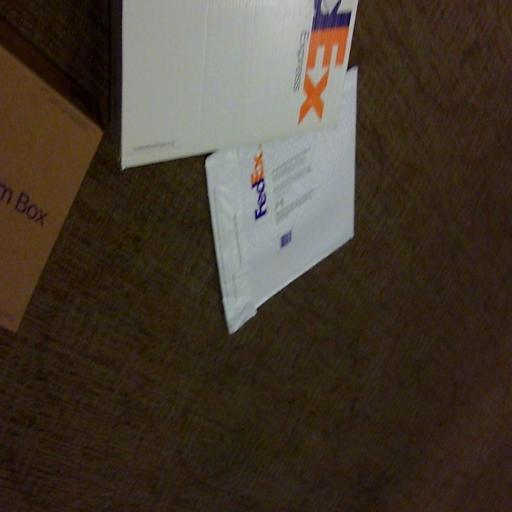Amazon: (80, 0, 349, 131), (211, 100, 347, 287)
